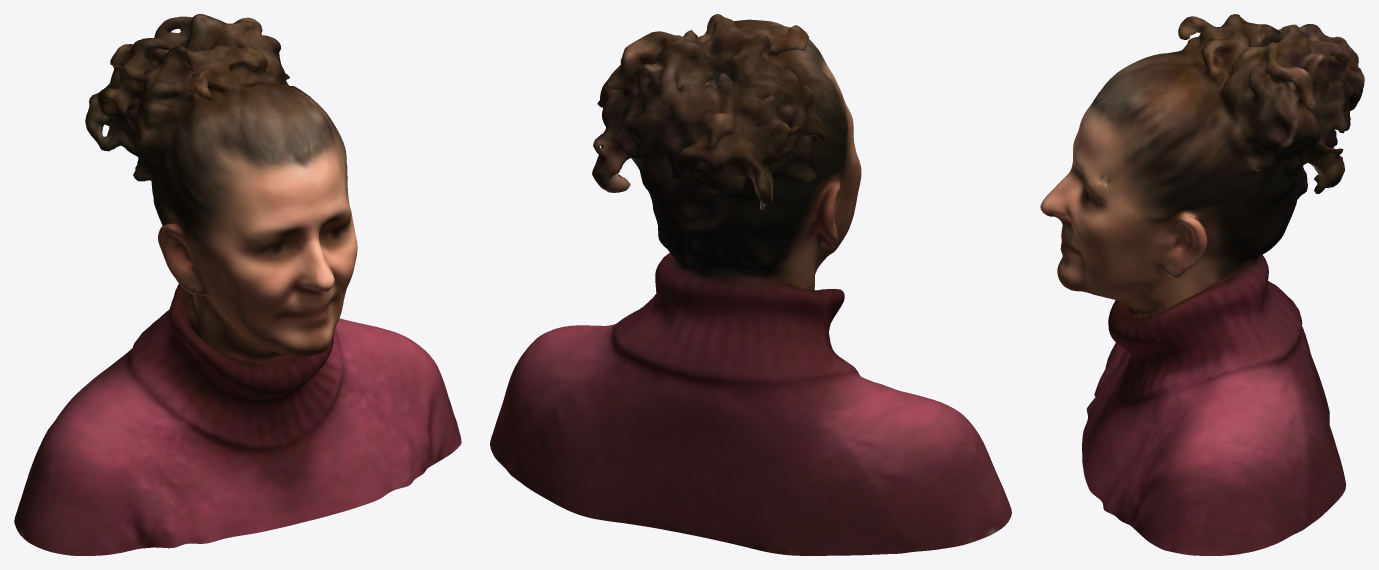
File: asset.glb
The picture shows the model from 3 angles, left to right: view 1: azimuth 30°, elevation 25°; view 2: azimuth 150°, elevation 25°; view 3: azimuth 270°, elevation 25°; orthographic projection. The views are drawn at different scales.
Parts seen in each view (by area): view 1: Model; view 2: Model; view 3: Model.
Boxes of the visible parts, left/top/right/bottom form: Model: left=14, top=14, right=461, bottom=555; Model: left=490, top=14, right=1011, bottom=555; Model: left=1040, top=14, right=1364, bottom=555.
Size of the model in its own units: 0.4431 by 0.4142 by 0.2858.
1 material, 1 textured.
